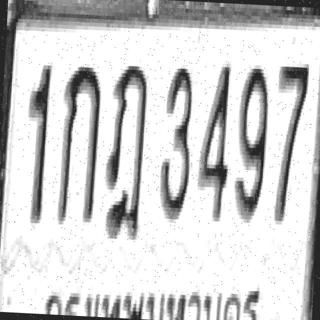A01: (57, 59, 103, 223)
A14: (103, 59, 150, 238)
N01: (23, 59, 51, 222)
N03: (158, 62, 195, 218)
N04: (196, 56, 234, 220)
N07: (271, 59, 309, 222)
N09: (232, 61, 270, 220)
